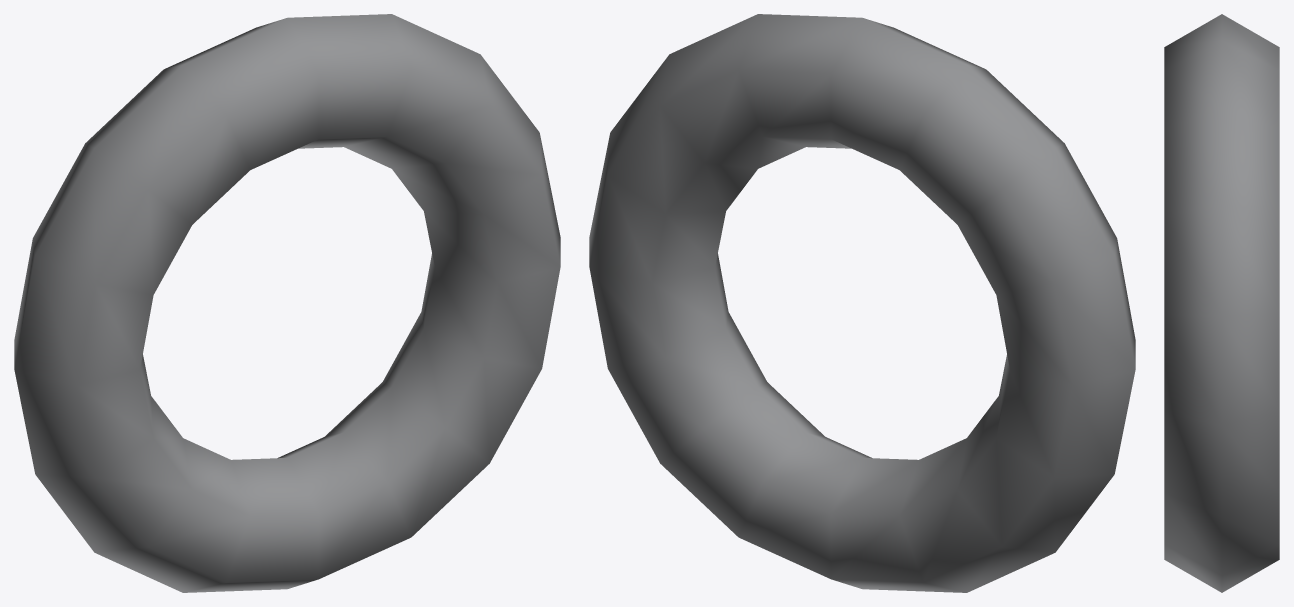
The picture shows the model from 3 angles, left to right: view 1: azimuth 30°, elevation 25°; view 2: azimuth 150°, elevation 25°; view 3: azimuth 270°, elevation 25°; orthographic projection. The views are drawn at different scales.
Bounding box in the file's own units: 0.9396 × 0.9396 × 0.1871.
